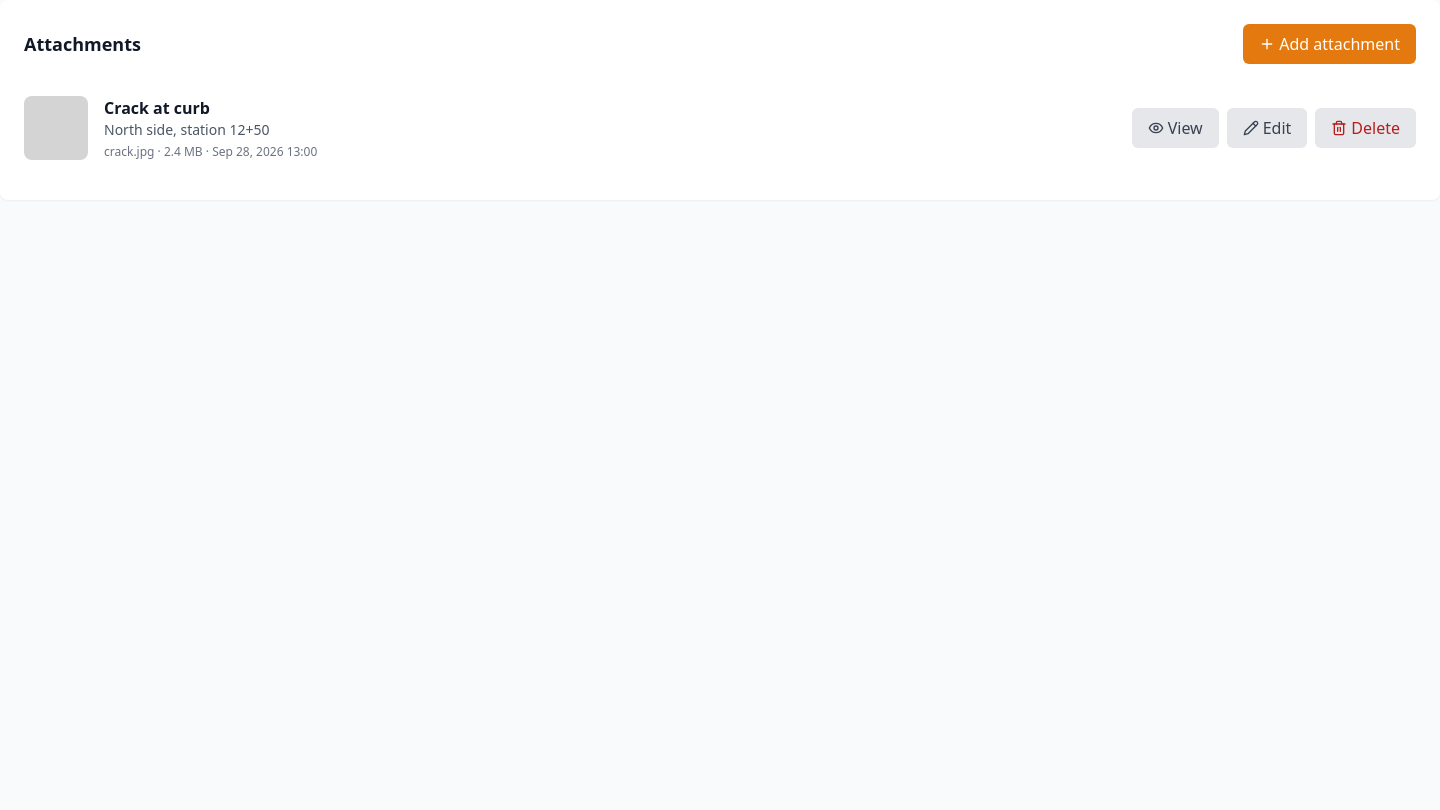
it: edit › opens the edit modal for that attachment and updates its card on save
Expected: the text "Crack at curb" is shown, x1=104 y1=97 x2=210 y2=119
Click the button "Edit" at [1267, 128], box x1=1227 y1=108 x2=1307 y2=148
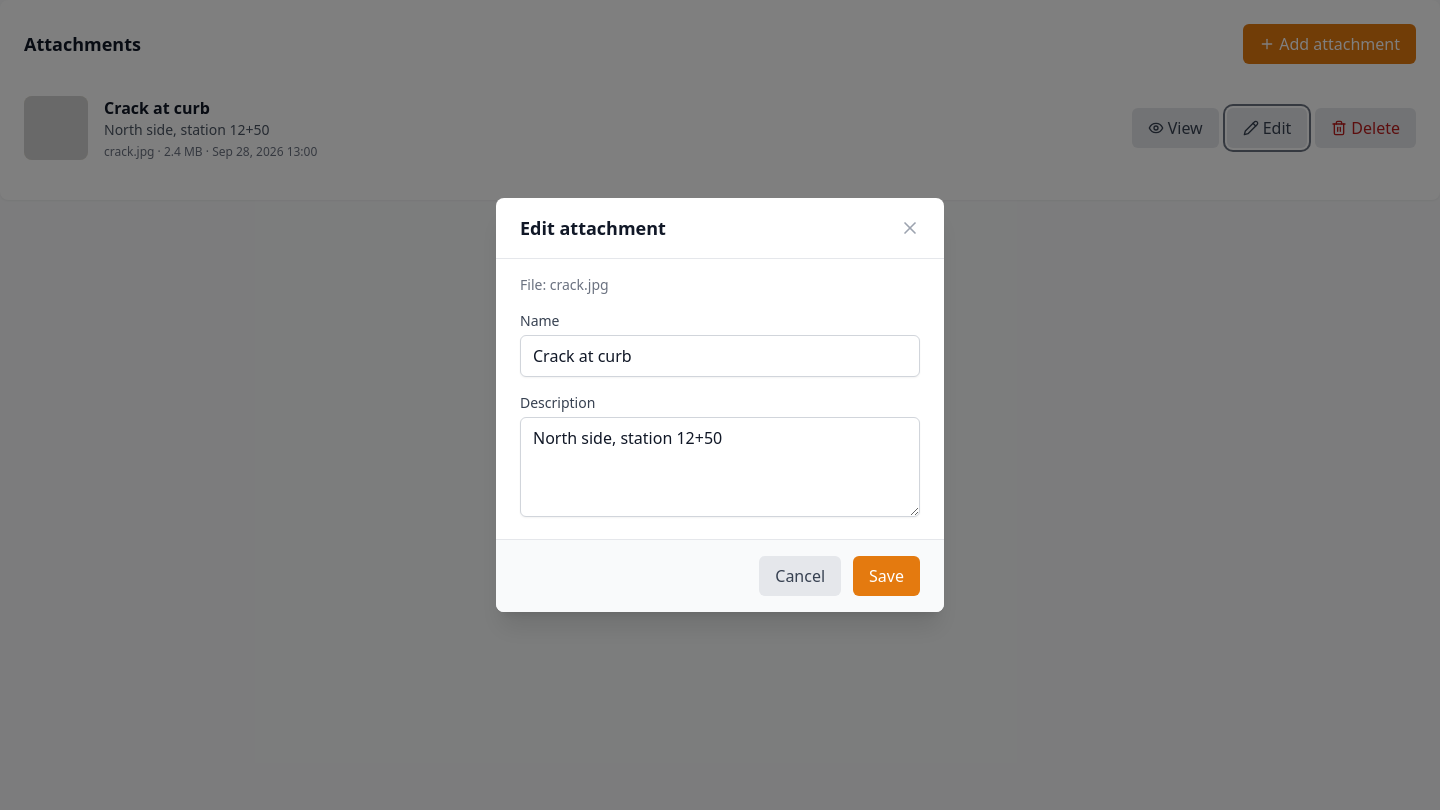
Result: the dialog "Edit attachment" is shown at x1=496 y1=198 x2=944 y2=612
Replace the text in the field labelled "Name" with "Crack, repaired" at [720, 356], box x1=520 y1=335 x2=920 y2=377
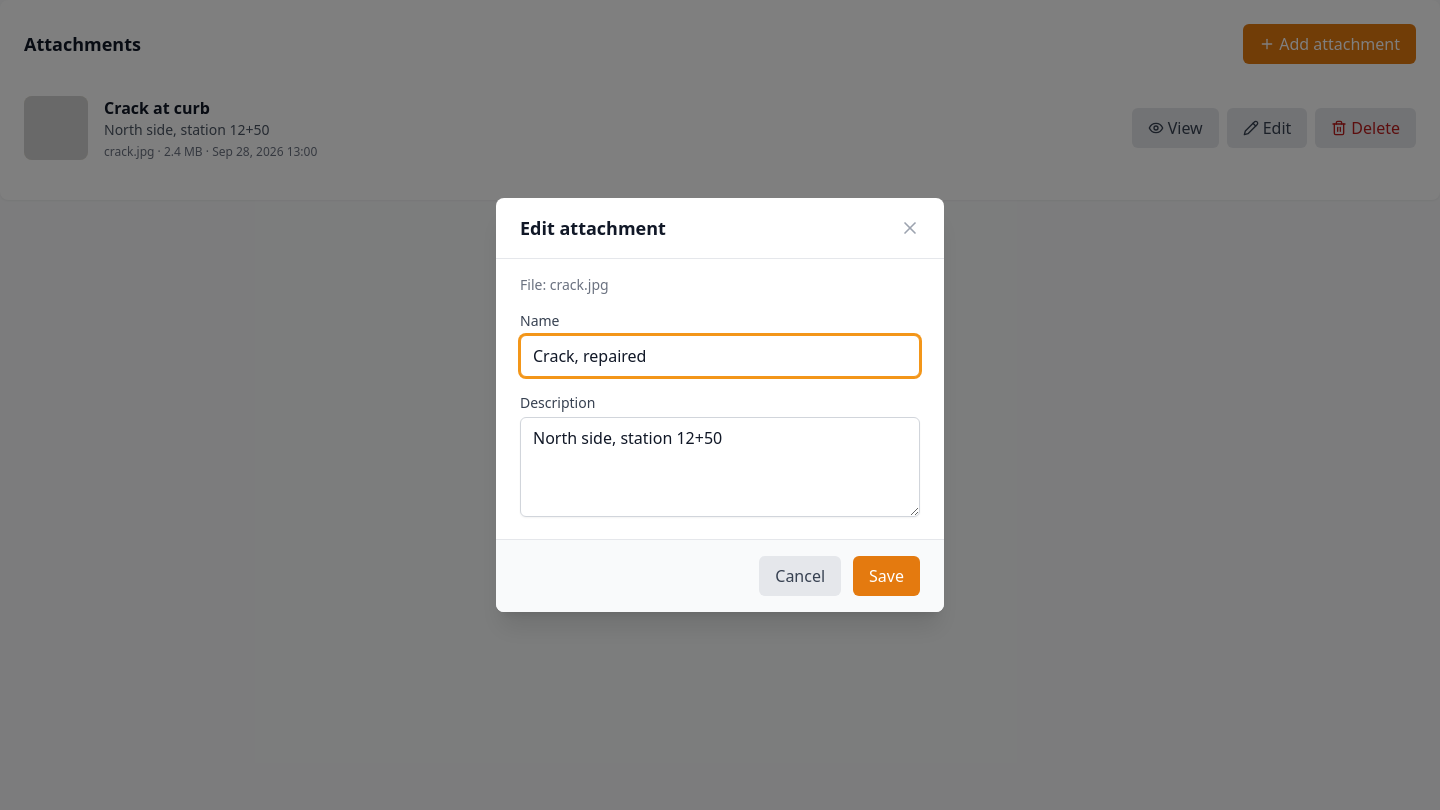
Click the button "Save" at [887, 576], box x1=853 y1=556 x2=920 y2=596
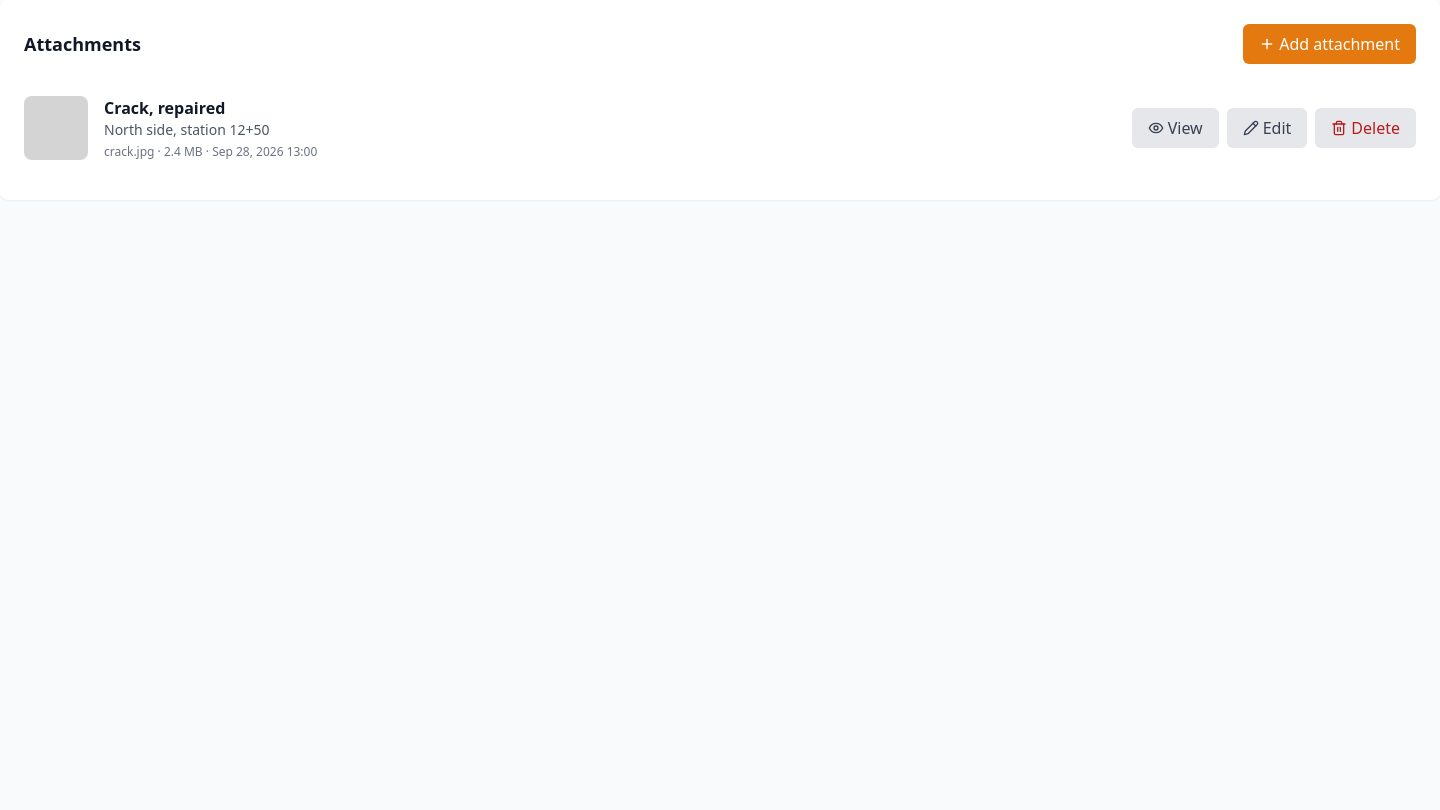
Result: the dialog is gone
Result: the text "Crack, repaired" is shown at x1=104 y1=97 x2=225 y2=119
Result: the text "Crack at curb" is gone
